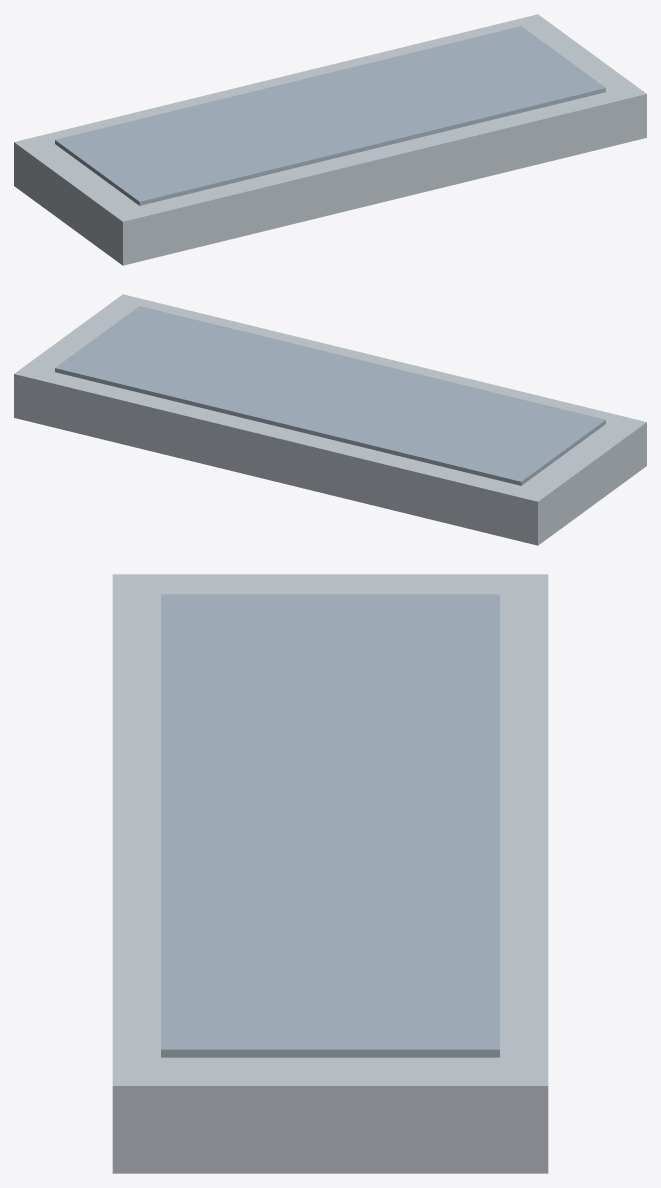
File: aluminum-strip.glb
The picture shows the model from 3 angles, top to bottom: view 1: azimuth 30°, elevation 25°; view 2: azimuth 150°, elevation 25°; view 3: azimuth 270°, elevation 25°; orthographic projection. The views are drawn at different scales.
Parts seen in each view (by area): view 1: Lámina de aluminio-silver, Lámina de aluminio-metal; view 2: Lámina de aluminio-silver, Lámina de aluminio-metal; view 3: Lámina de aluminio-metal, Lámina de aluminio-silver.
Part boxes in pixels (x1,y1,x2,y2): Lámina de aluminio-silver: [14, 14, 646, 265]; Lámina de aluminio-metal: [55, 26, 605, 205]; Lámina de aluminio-silver: [14, 294, 646, 545]; Lámina de aluminio-metal: [55, 306, 605, 485]; Lámina de aluminio-metal: [161, 594, 499, 1057]; Lámina de aluminio-silver: [112, 574, 548, 1173].
Bounding box in the file's own units: 2 × 0.175 × 0.72.
